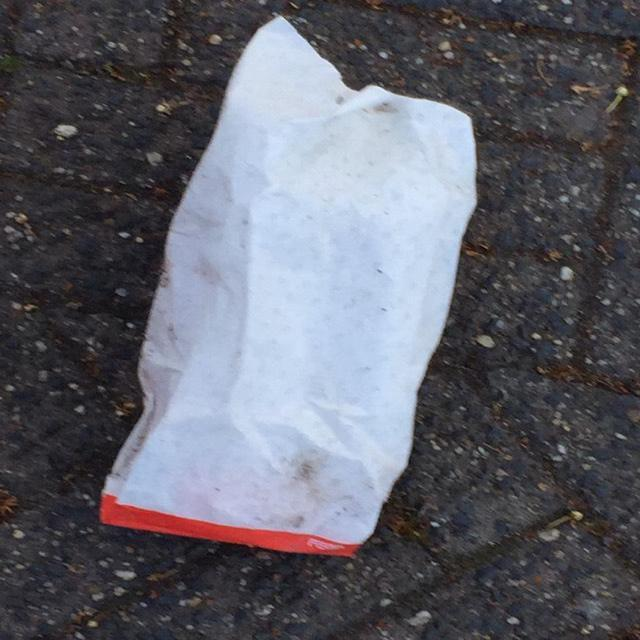Paper: (99, 11, 478, 558)
